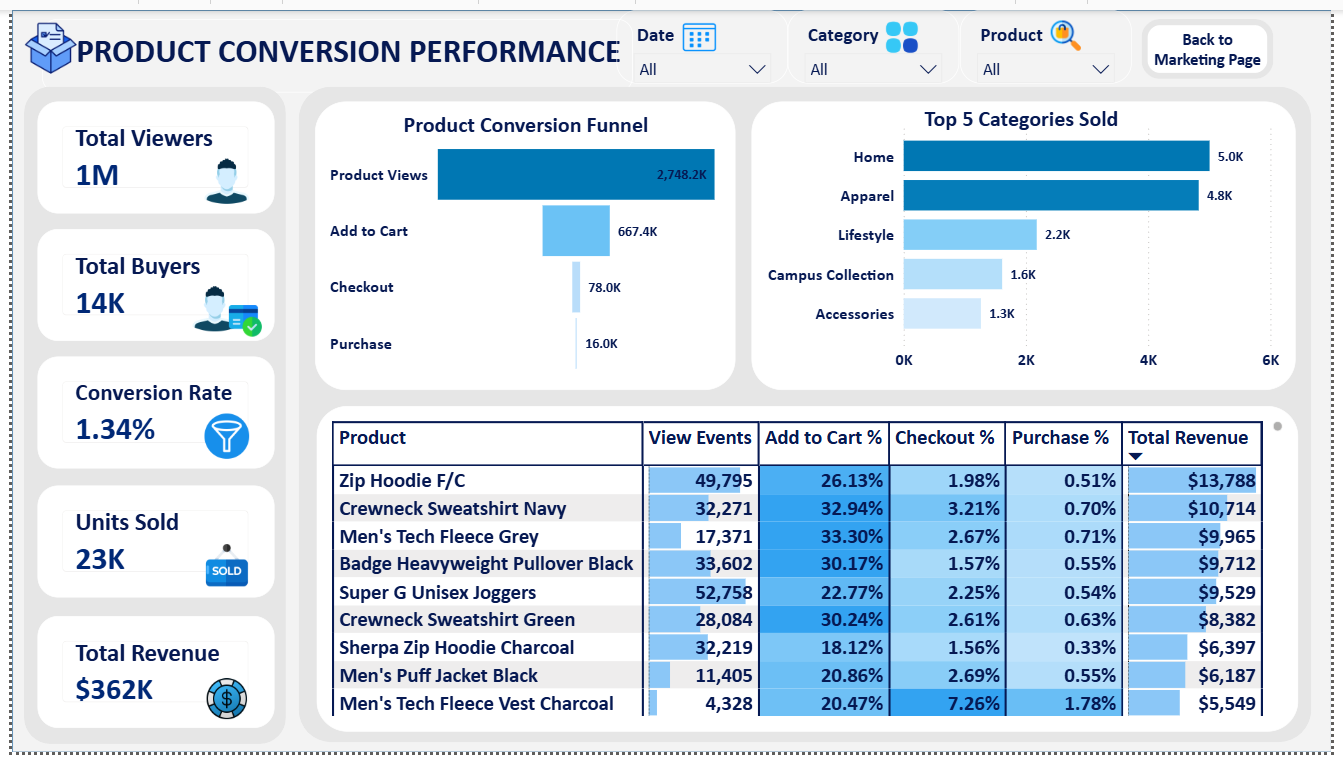

The dashboard page shown, as its layout file describes it:
{"tool":"powerbi","page":{"name":"Product Conversion Performance","canvas":[1280,720],"ordinal":1},"visuals":[{"type":"shape","box":[0,0,1280.8,720.6],"z":0},{"type":"textbox","box":[27.5,4.9,573.2,71.2],"z":1000},{"type":"shape","box":[11.3,74.5,254.2,638],"z":2000},{"type":"shape","box":[278.5,74.5,982.9,636.4],"z":3000},{"type":"cardVisual","fields":{"Data":["Sum(fact_product_funnel.unique_viewers)"]},"box":[24.3,89.1,229.9,108.5],"z":4000},{"type":"cardVisual","fields":{"Data":["Sum(fact_product_funnel.unique_buyers)"]},"box":[24.3,212.1,229.9,108.5],"z":5000},{"type":"cardVisual","fields":{"Data":["all_measures.Product Conversion Rate"]},"box":[24.3,336.8,229.9,108.5],"z":6000},{"type":"cardVisual","fields":{"Data":["Sum(fact_product_funnel.units_sold)"]},"box":[24.3,461.5,229.9,108.5],"z":7000},{"type":"cardVisual","fields":{"Data":["Sum(fact_product_funnel.revenue)"]},"box":[24.3,587.8,229.9,108.5],"z":8000},{"type":"funnel","title":"Users Conversion Funnel","fields":{"Y":["Sum(fact_product_funnel.view_events)","Sum(fact_product_funnel.add_to_cart_events)","Sum(fact_product_funnel.checkout_events)","Sum(fact_product_funnel.purchase_events)"]},"box":[294.7,89.1,408,280.1],"z":9000},{"type":"clusteredBarChart","title":"Top Categories Sold","fields":{"Category":["dim_product.item_category"],"Y":["Sum(fact_product_funnel.units_sold)"]},"box":[717.3,89.1,527.9,280.1],"z":10000},{"type":"textbox","box":[863,81,233.2,50.2],"z":11000},{"type":"pivotTable","title":"Top 7 Products by Revenue","fields":{"Rows":["dim_product.item_name"],"Values":["Sum(fact_product_funnel.view_events)","all_measures.Product Views-to-Cart Rate","all_measures.Product Views-to-Checkout Rate","all_measures.Product Views-to-Buy Rate","Sum(fact_product_funnel.revenue)"]},"box":[295.5,383.6,952.7,315.7],"z":12000},{"type":"slicer","fields":{"Values":["fact_marketing_funnel.event_date_text"]},"box":[586.2,0,166.8,71.2],"z":12500},{"type":"slicer","fields":{"Values":["dim_product.item_category"]},"box":[752.9,0,166.8,71.2],"z":12750},{"type":"slicer","fields":{"Values":["dim_product.item_name"]},"box":[919.7,0,166.8,71.2],"z":12875},{"type":"image","box":[176.5,144.1,64.8,43.7],"z":13000},{"type":"image","box":[165.2,267.2,64.8,43.7],"z":15000},{"type":"image","box":[204,285,45.3,32.4],"z":16000},{"type":"image","box":[176.5,391.9,64.8,43.7],"z":17000},{"type":"image","box":[176.5,516.5,64.8,43.7],"z":18000},{"type":"image","box":[176.5,646.1,64.8,43.7],"z":19000},{"type":"image","box":[647.7,8.1,38.9,35.6],"z":19001}]}

Visuals, with their boxes in screenshot pixels (x1, y1, x2, y2), scaled from the page's 1280x720 canvas onto the 1343x762 screenshot:
shape: Rect(0, 0, 1342, 761)
textbox: Rect(29, 5, 630, 81)
shape: Rect(12, 79, 279, 754)
shape: Rect(292, 79, 1323, 752)
cardVisual - Sum(fact_product_funnel.unique_viewers): Rect(25, 94, 267, 209)
cardVisual - Sum(fact_product_funnel.unique_buyers): Rect(25, 224, 267, 339)
cardVisual - all_measures.Product Conversion Rate: Rect(25, 356, 267, 471)
cardVisual - Sum(fact_product_funnel.units_sold): Rect(25, 488, 267, 603)
cardVisual - Sum(fact_product_funnel.revenue): Rect(25, 622, 267, 737)
"Users Conversion Funnel" funnel: Rect(309, 94, 737, 391)
"Top Categories Sold" clusteredBarChart: Rect(753, 94, 1306, 391)
textbox: Rect(905, 86, 1150, 139)
"Top 7 Products by Revenue" pivotTable: Rect(310, 406, 1310, 740)
slicer - fact_marketing_funnel.event_date_text: Rect(615, 0, 790, 75)
slicer - dim_product.item_category: Rect(790, 0, 965, 75)
slicer - dim_product.item_name: Rect(965, 0, 1140, 75)
image: Rect(185, 153, 253, 199)
image: Rect(173, 283, 241, 329)
image: Rect(214, 302, 262, 336)
image: Rect(185, 415, 253, 461)
image: Rect(185, 547, 253, 593)
image: Rect(185, 684, 253, 730)
image: Rect(680, 9, 720, 46)
